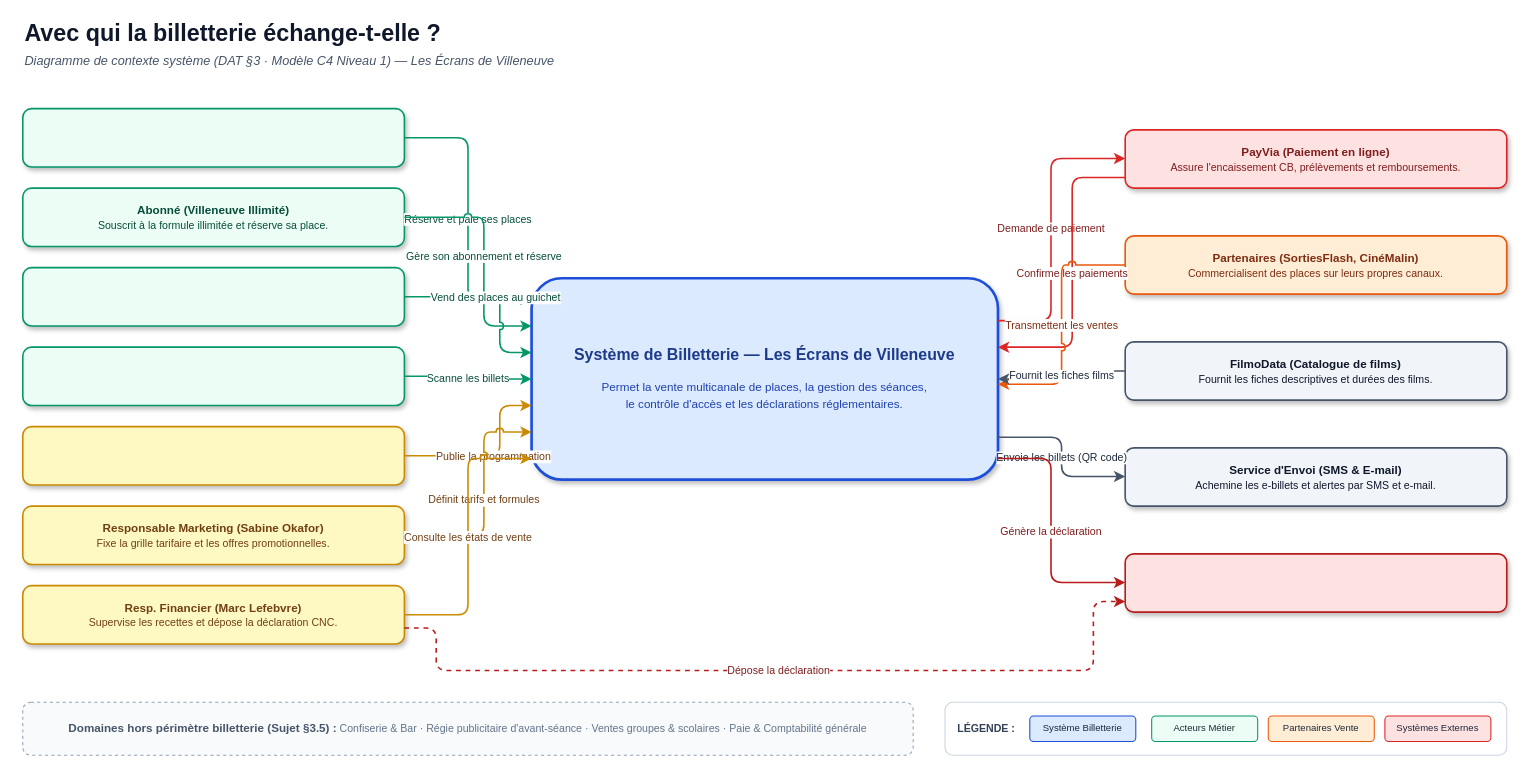
Some shapes in this 1533 by 774 pixel diagram are drawn without their labels. The centre of each missing label's shape, as x and y in pixels:
Agent d'accueil Scanne les billets à l'entrée avec des douchettes.: the point at 214,377
Caissier (3 Guichets) Vend des billets et encaisse les clients au guichet.: the point at 214,298
Client (Spectateur) Achète des places, paie en ligne et reçoit ses billets.: the point at 214,139
Portail du CNC Réceptionne la déclaration réglementaire hebdomadaire.: the point at 1316,584
Programmateur (Julien Morel) Définit les films, salles et horaires des séances.: the point at 214,457
